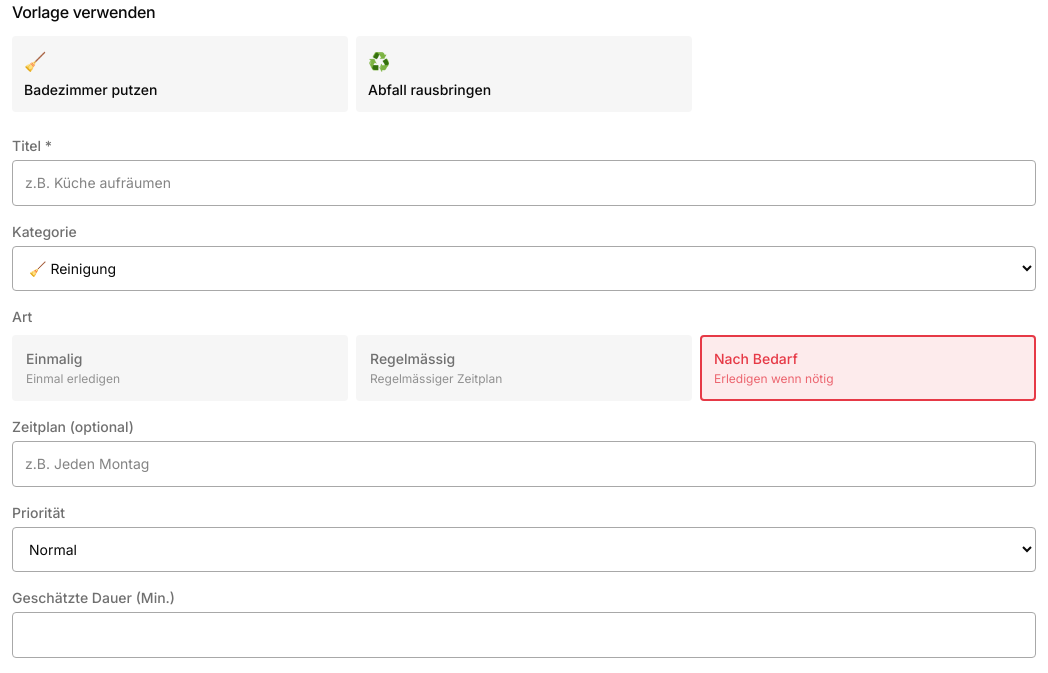
CreateChoreForm › shows API error message when submission fails
In the field labelled "Titel *": (524, 183) [12, 160, 1036, 206], type "Test"
(page scrolled)
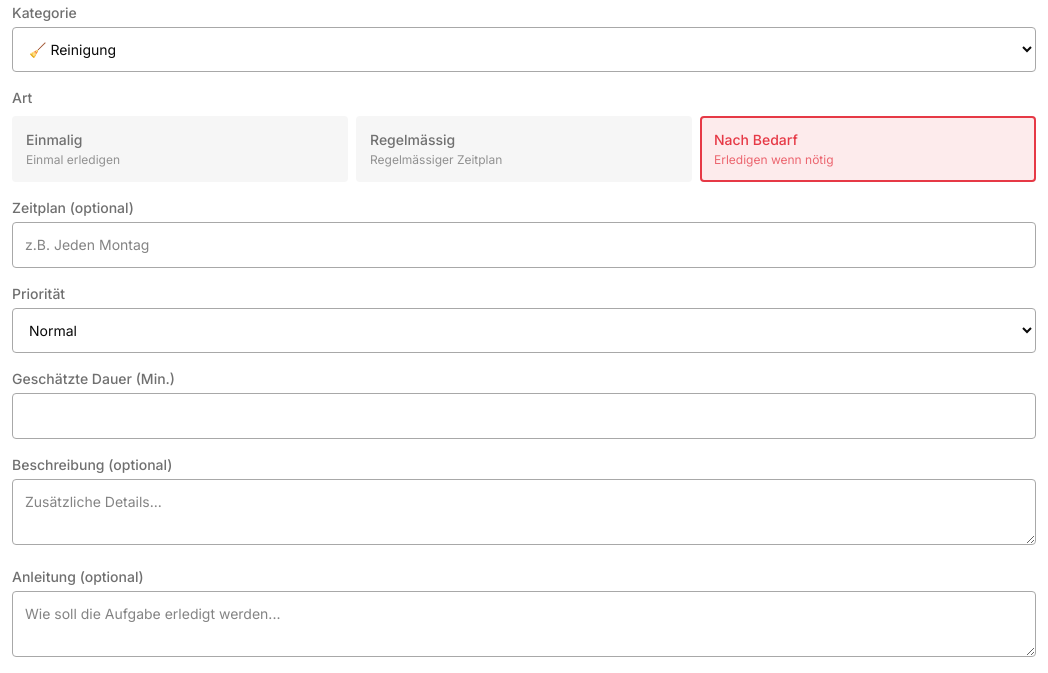
Submit the form named "Aufgabe erstellen"
(page scrolled)
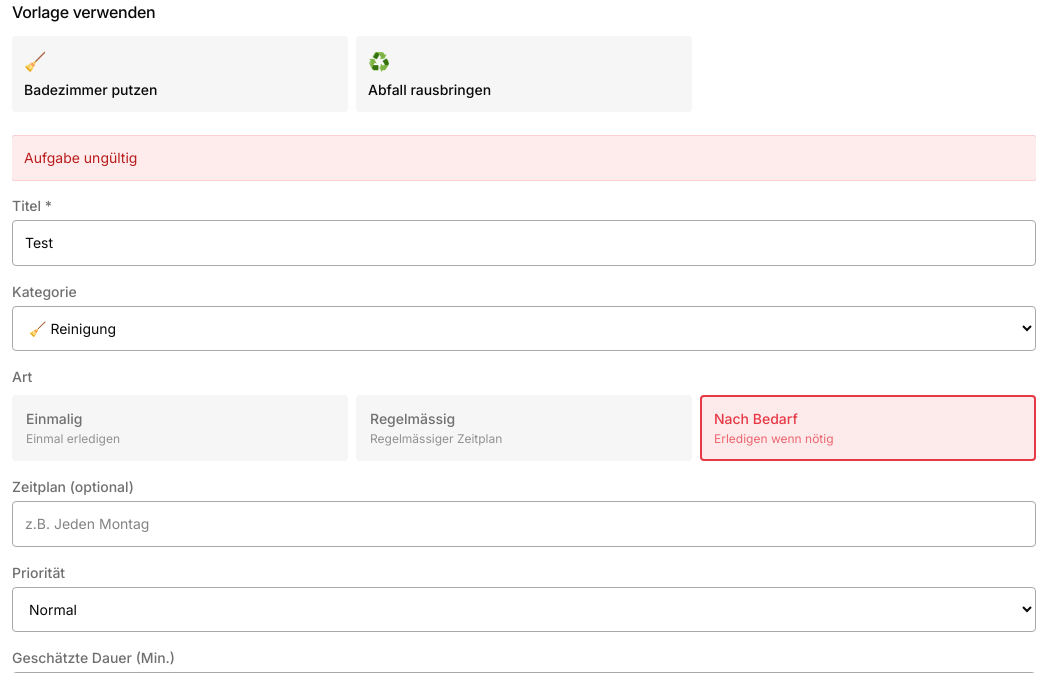
Check: the message reads "Aufgabe ungültig", box [24, 149, 137, 166]
